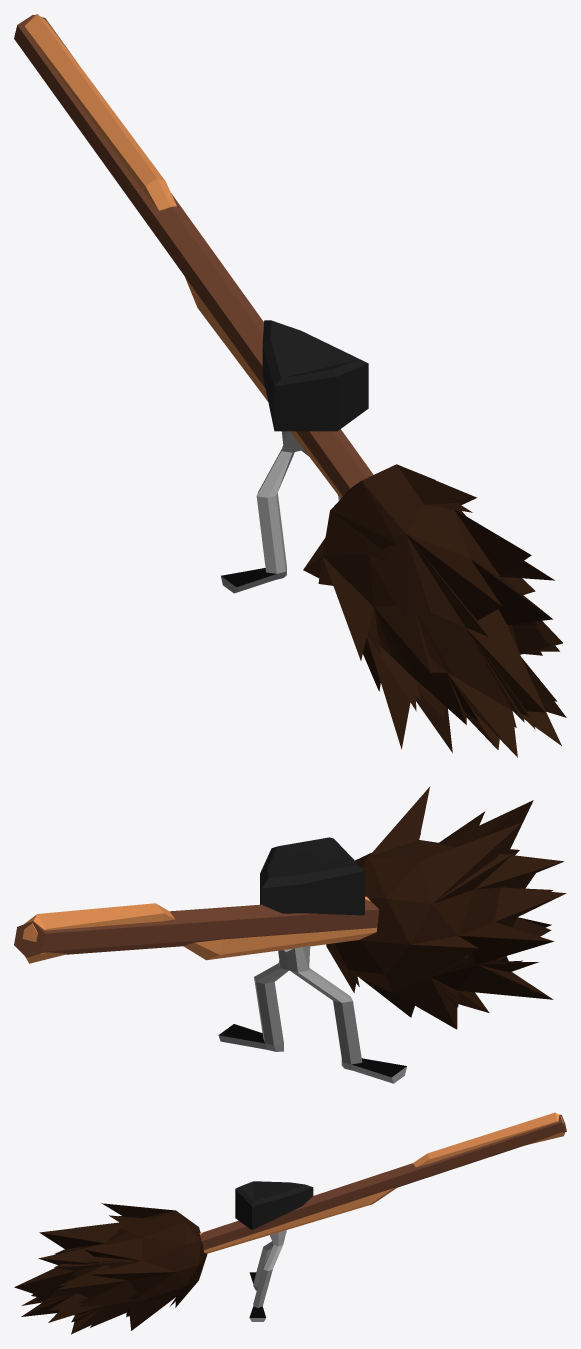
File: Broom.fbx
3 renders of one model, top to bottom at view 1: azimuth 30°, elevation 25°; view 2: azimuth 150°, elevation 25°; view 3: azimuth 270°, elevation 25°, orthographic. The views are drawn at different scales.
Parts seen in each view (by area): view 1: Wicker1, Wicker2, Handle1, Seat, Handle2, FootRest, Wicker3; view 2: Wicker2, Wicker1, Handle1, Seat, FootRest, Handle2; view 3: Wicker1, Wicker2, Handle1, Handle2, Seat, FootRest, Wicker3.
Boxes of the visible parts, left/top/right/bottom form: Wicker1: left=322, top=464, right=566, bottom=757; Wicker2: left=303, top=464, right=557, bottom=724; Handle1: left=14, top=15, right=373, bottom=496; Seat: left=262, top=320, right=368, bottom=431; Handle2: left=24, top=14, right=342, bottom=498; FootRest: left=221, top=431, right=340, bottom=593; Wicker3: left=318, top=505, right=528, bottom=727; Wicker2: left=326, top=833, right=552, bottom=1007; Wicker1: left=327, top=787, right=566, bottom=1029; Handle1: left=14, top=899, right=379, bottom=957; Seat: left=260, top=837, right=364, bottom=915; FootRest: left=218, top=946, right=406, bottom=1083; Handle2: left=22, top=896, right=376, bottom=963; Wicker1: left=14, top=1203, right=197, bottom=1334; Wicker2: left=31, top=1210, right=207, bottom=1322; Handle1: left=200, top=1114, right=566, bottom=1249; Handle2: left=199, top=1112, right=565, bottom=1253; Seat: left=235, top=1181, right=313, bottom=1229; FootRest: left=249, top=1230, right=286, bottom=1321; Wicker3: left=36, top=1211, right=182, bottom=1315.
Size of the model in its own units: 146 by 659 by 291.
